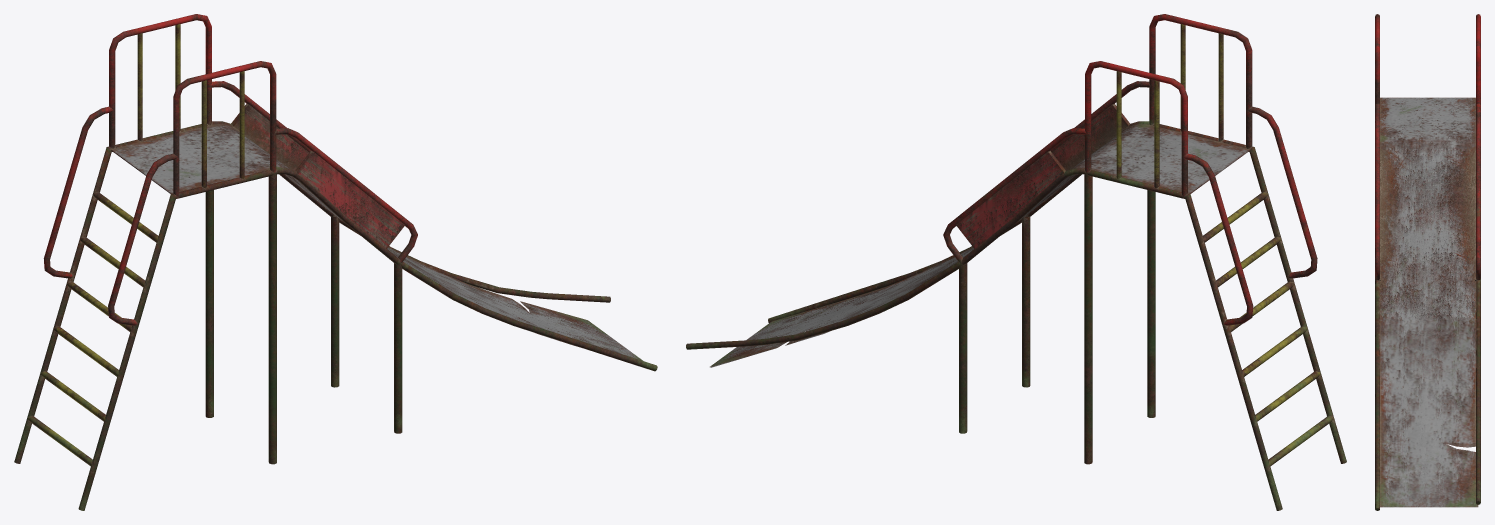
File: Slide.fbx
The picture shows the model from 3 angles, left to right: view 1: azimuth 30°, elevation 25°; view 2: azimuth 150°, elevation 25°; view 3: azimuth 270°, elevation 25°; orthographic projection. The views are drawn at different scales.
Visible parts, largest first — view 1: Object003, Object002, Plane004; view 2: Object002, Object003, Plane004; view 3: Plane004, Object003, Object002.
Boxes of the visible parts, left/top/right/bottom form: Object003: left=78, top=61, right=657, bottom=510; Object002: left=14, top=14, right=610, bottom=463; Plane004: left=27, top=124, right=642, bottom=466; Object002: left=686, top=61, right=1282, bottom=510; Object003: left=768, top=14, right=1346, bottom=463; Plane004: left=710, top=124, right=1333, bottom=466; Plane004: left=1379, top=97, right=1478, bottom=507; Object003: left=1375, top=14, right=1380, bottom=510; Object002: left=1475, top=14, right=1480, bottom=504.
Bounding box in the file's own units: 63.02 × 321 × 209.
Materials: 3 (3 with a texture image).
